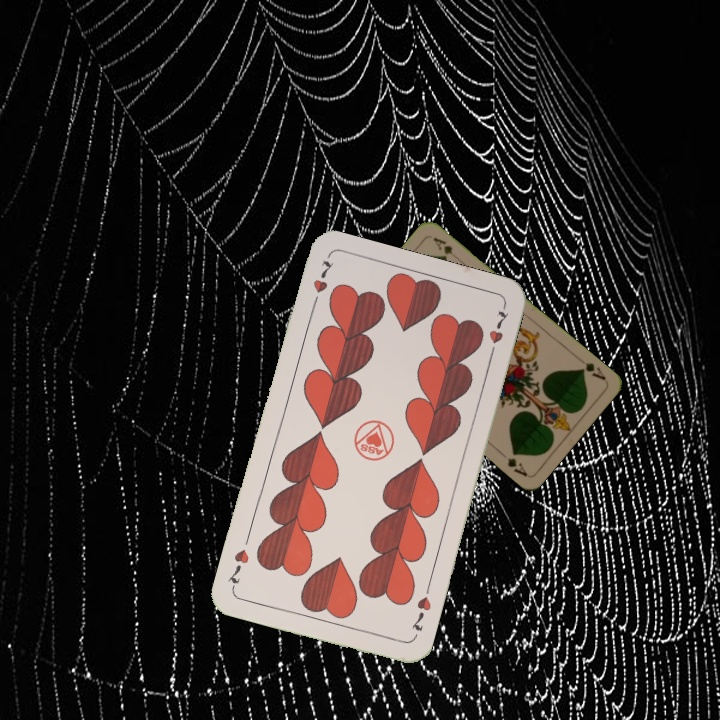GA: (576, 358, 609, 383)
H7: (307, 256, 336, 311), (407, 592, 434, 634)
